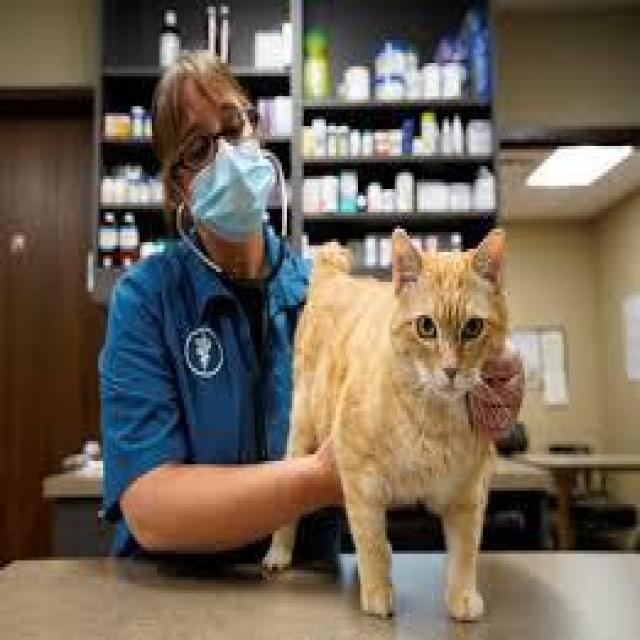cat: (293, 254, 552, 516)
